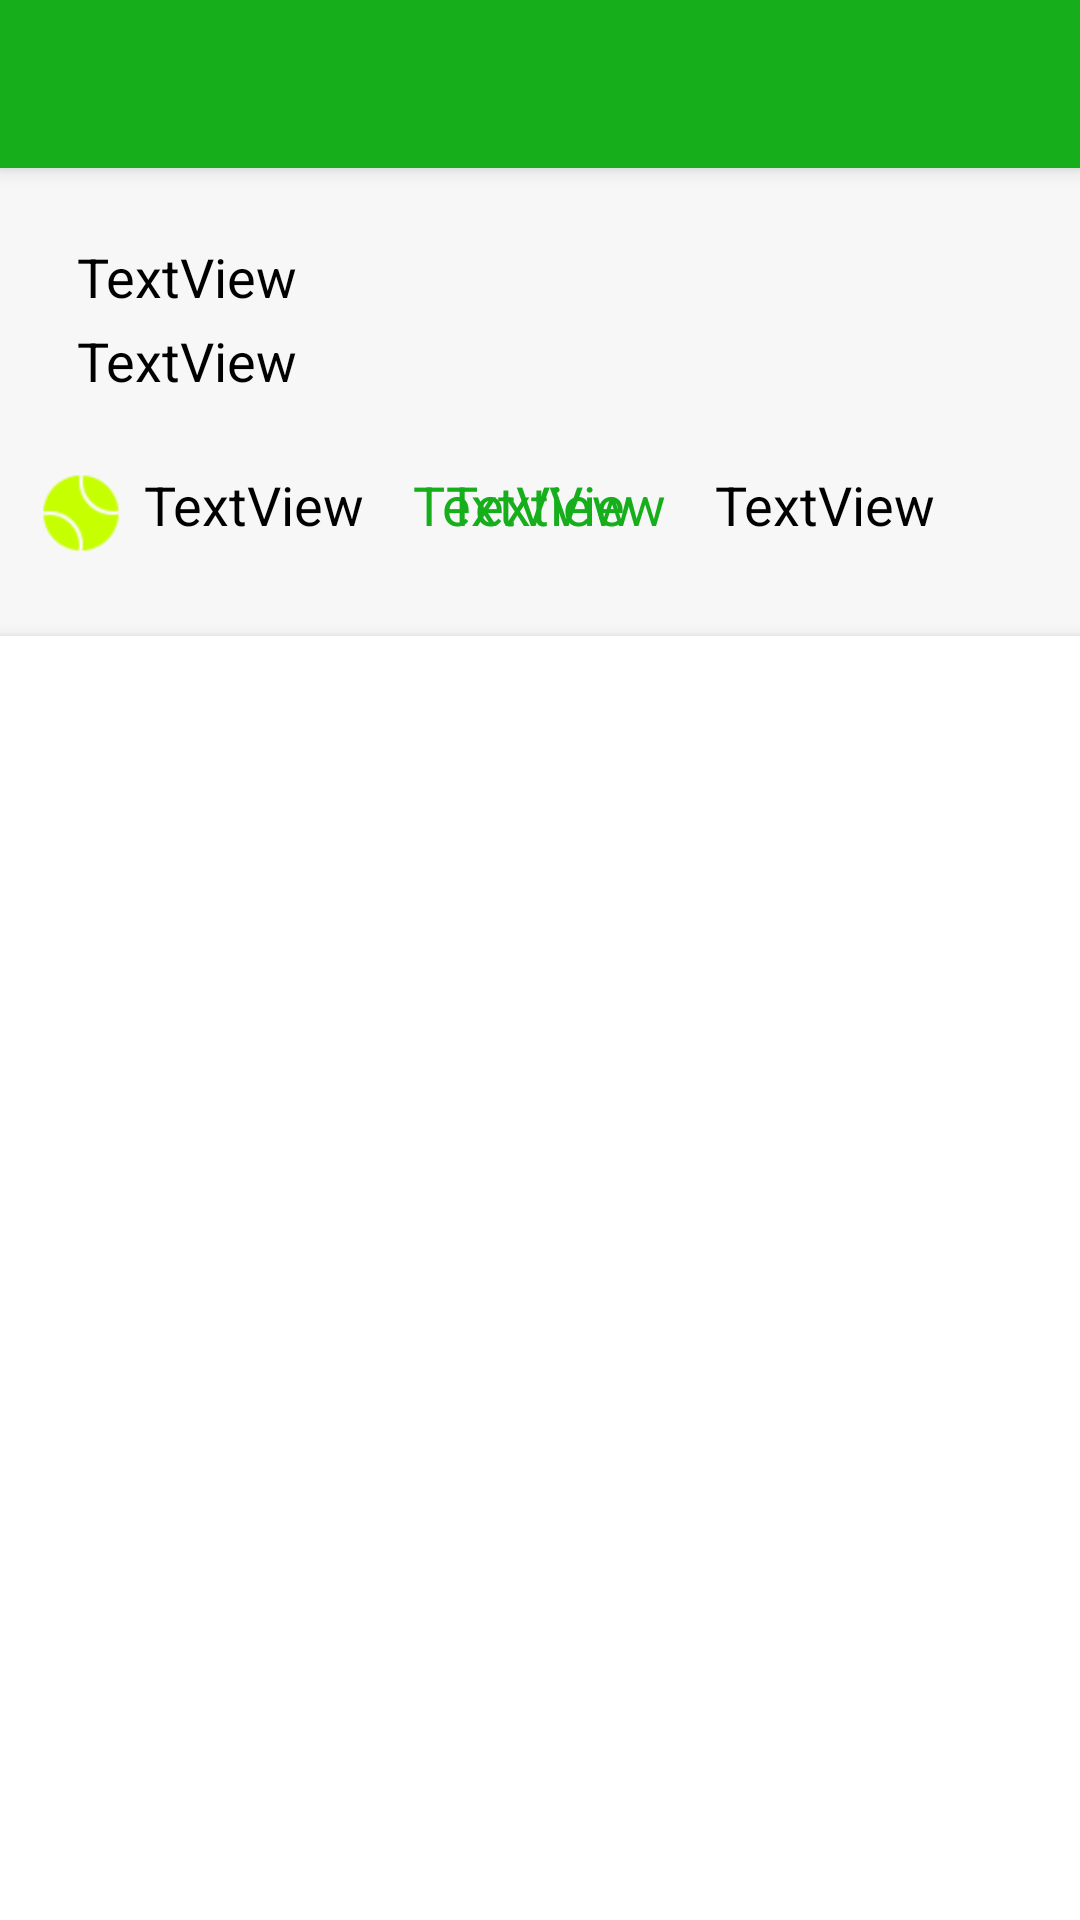

Where icons sit on this 1080×1920 app screen, as (x1, y1, x2, y2):
tennis ball: (43, 475, 119, 551)
